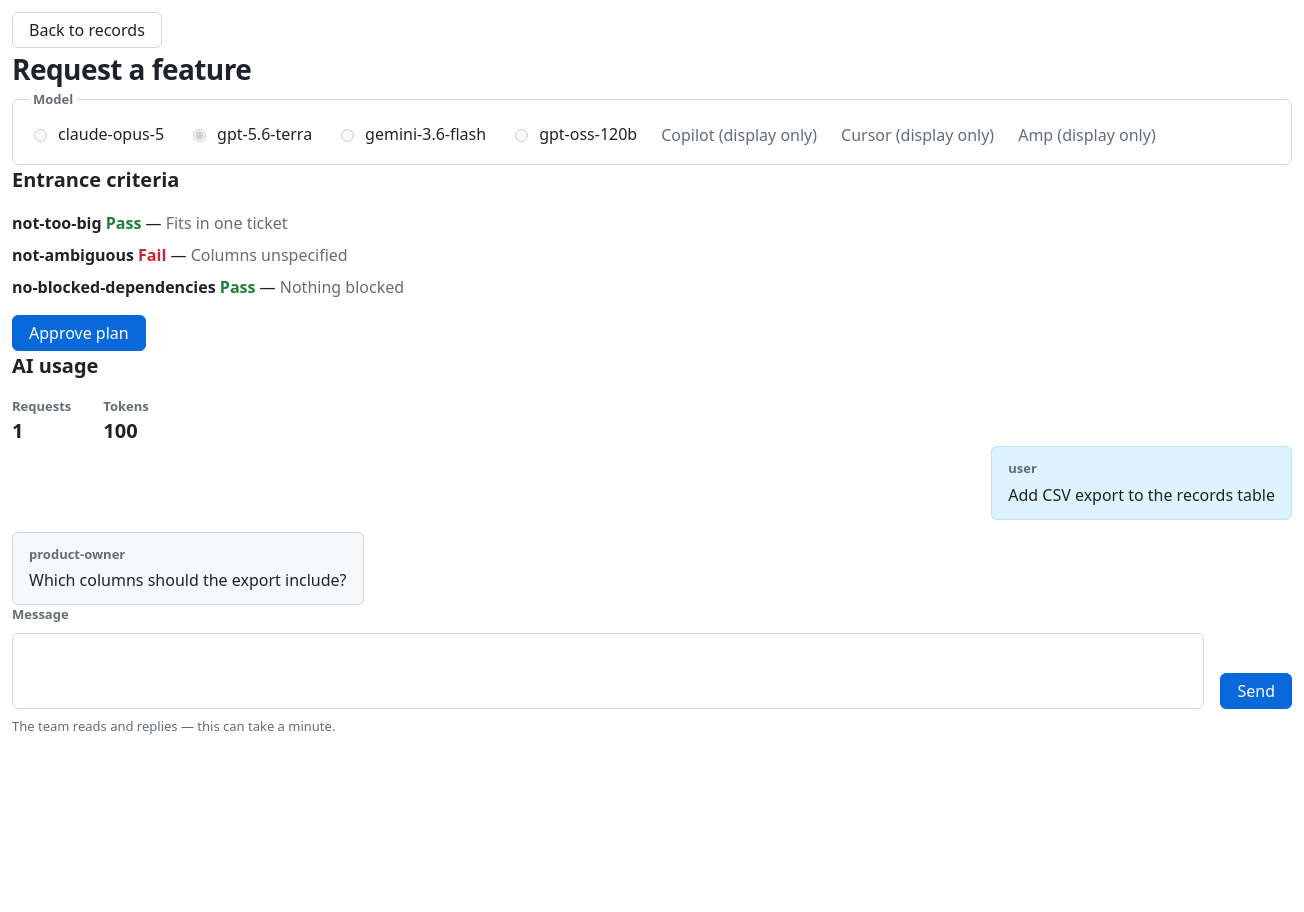
Test case: DAN-82 · onNavigate fires when a session acquires a URL › a successful approval navigates to /requests/:id at the hand-off
This screenshot has width=1304, height=912.
Step 1. Click the button "Approve plan" → (79, 332), box [12,314,146,350]
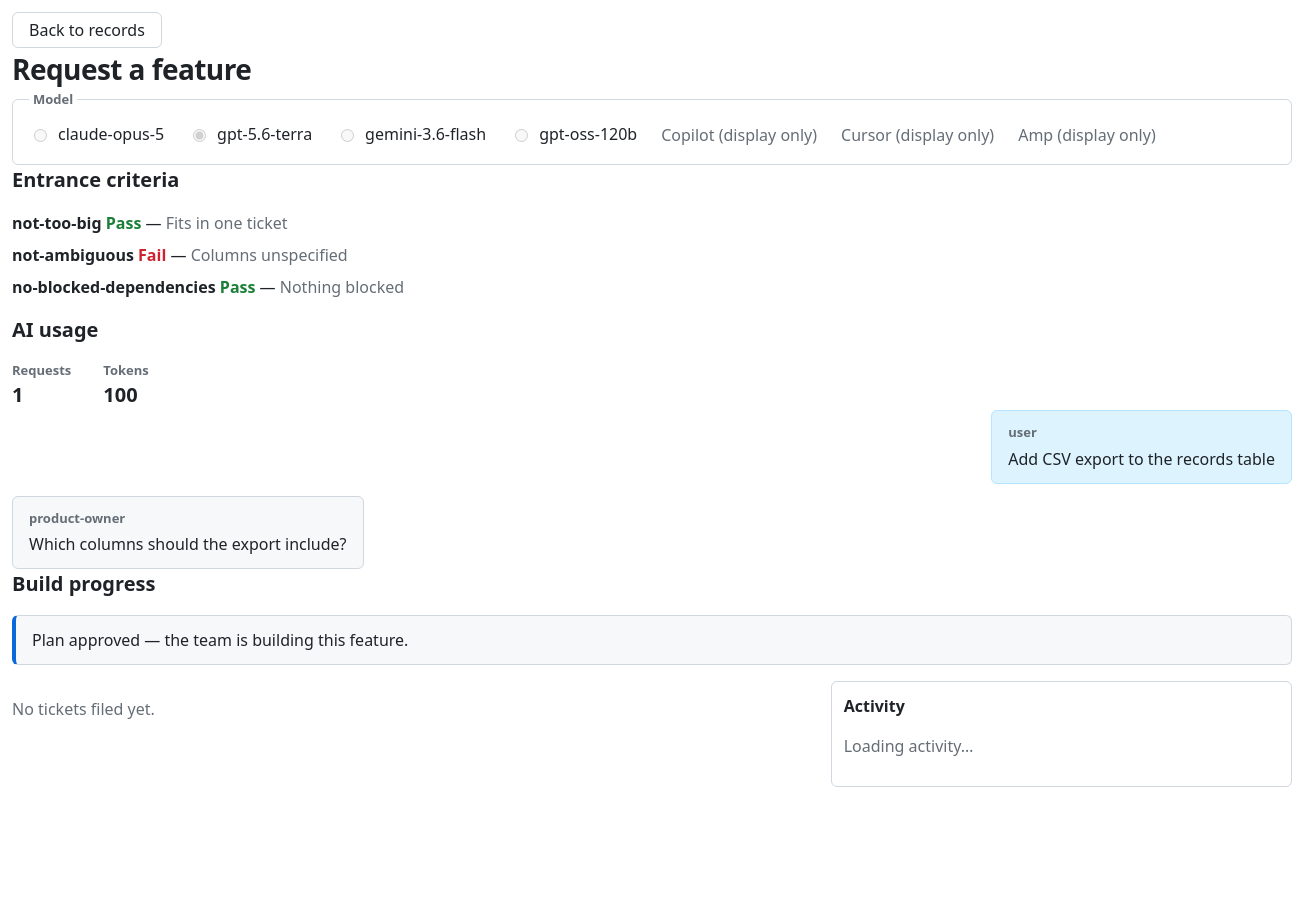
Check: the element "Build progress" is shown, box [12,569,1292,787]
